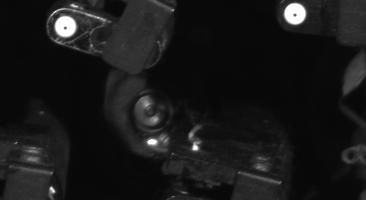fiber: (51, 13, 81, 41), (280, 1, 311, 28)
